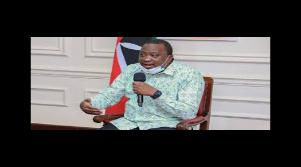mask_weared_incorrect: (140, 51, 165, 72)
